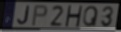2: (50, 5, 64, 27)
3: (100, 6, 114, 29)
H: (64, 5, 83, 28)
J: (17, 5, 31, 26)
P: (30, 5, 48, 27)
Q: (82, 6, 99, 28)
